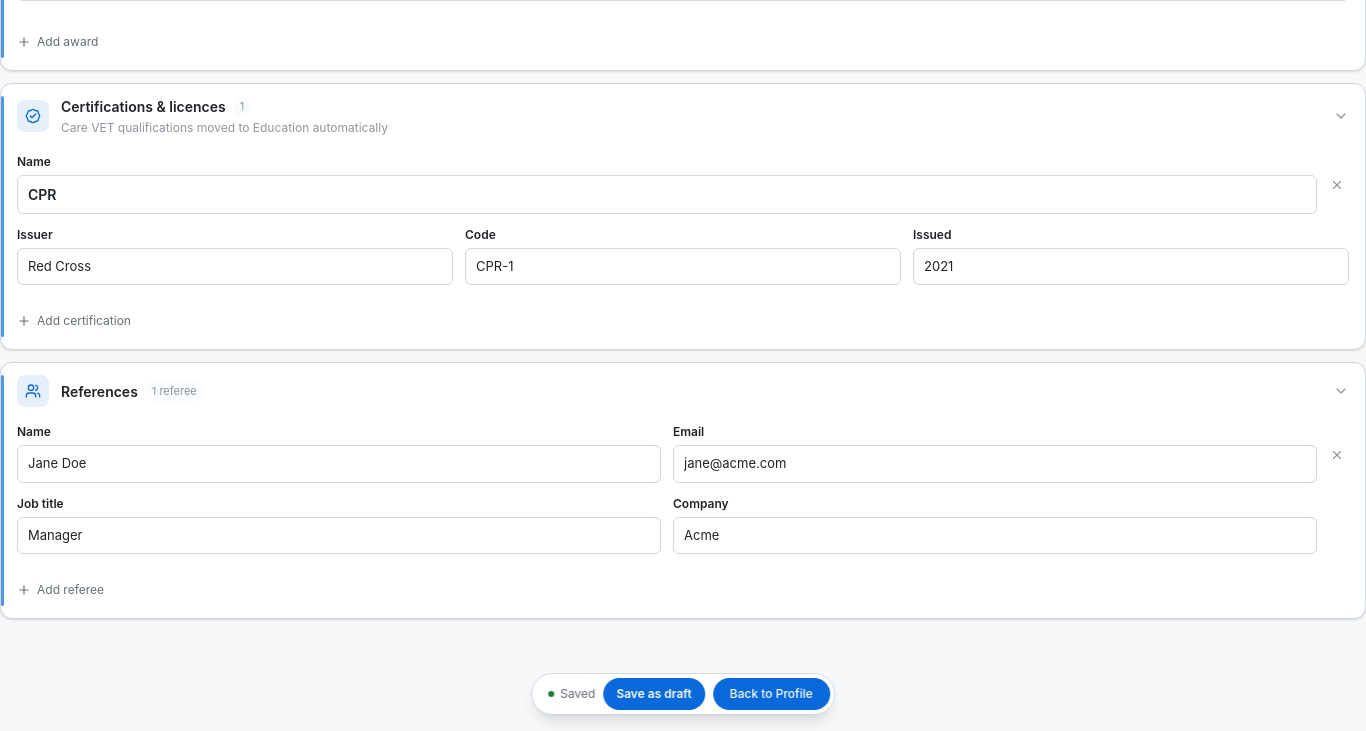
Test: References section › adding then removing a referee reaches addReferee/removeReferee
(page scrolled)
Click the button "Add referee" at (61, 590), box [9,578,112,602]
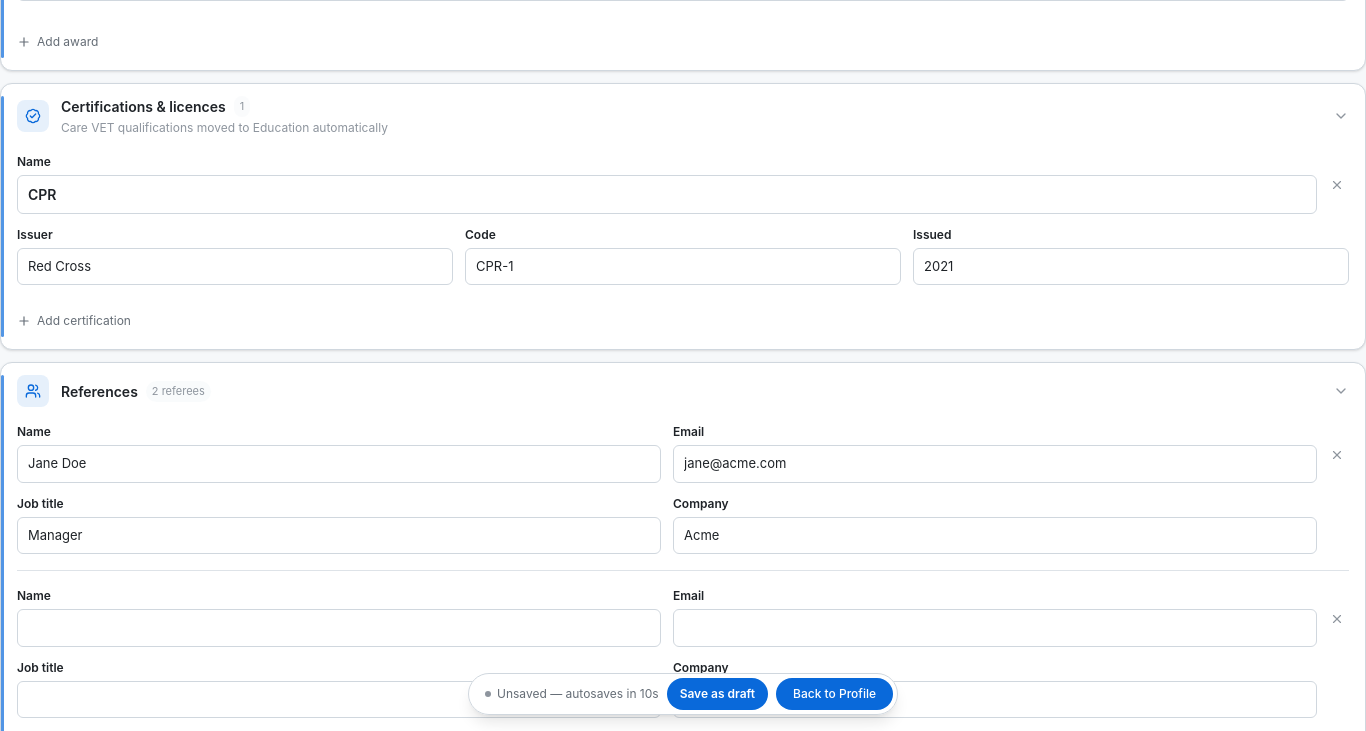
Expected: the number of fields labelled "Name" is 2, [17,445,661,483]; [17,609,661,647]
Click the 1st button named "Remove referee" at (1337, 455), box [1325,443,1349,467]
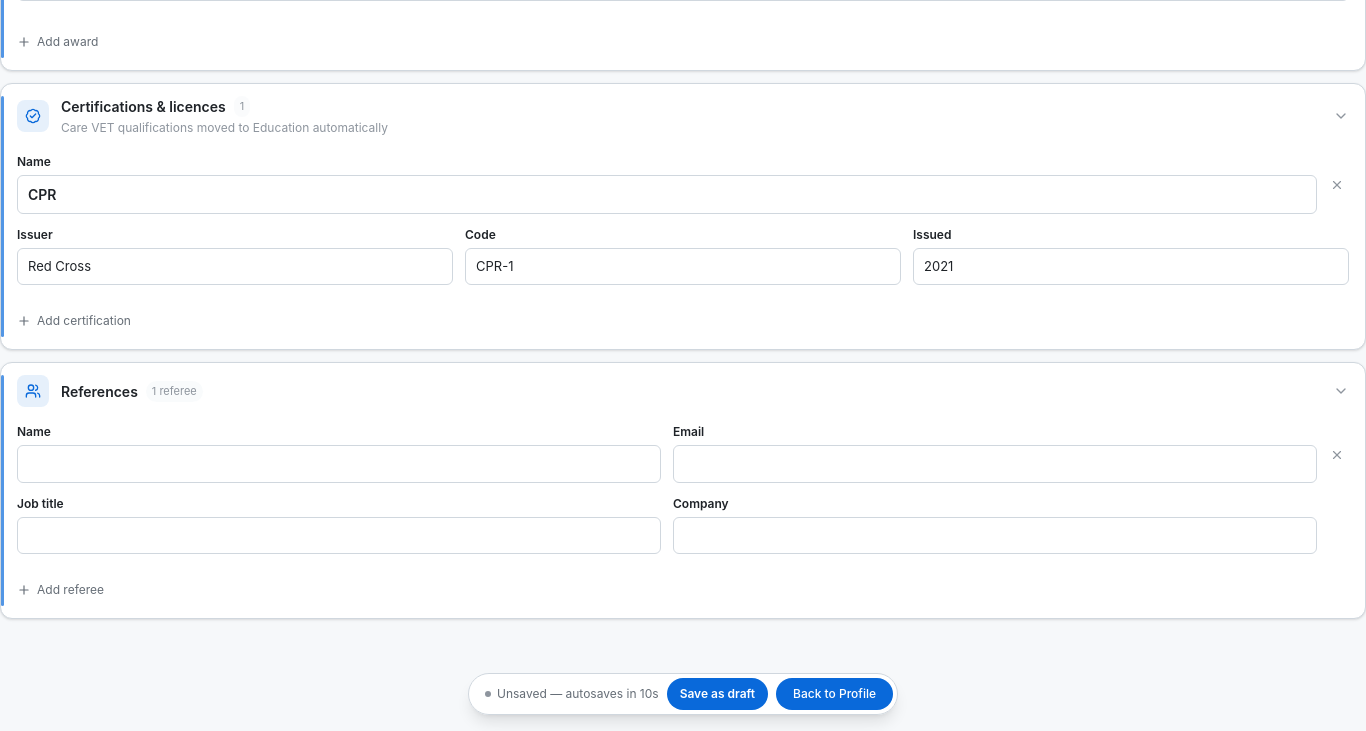
Expected: the number of fields labelled "Name" is 1, [17,445,661,483]
